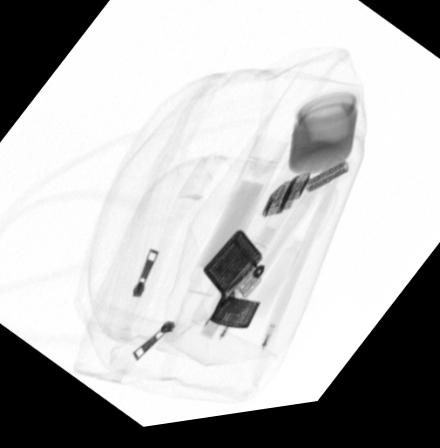Lighter: (203, 237, 267, 337)
